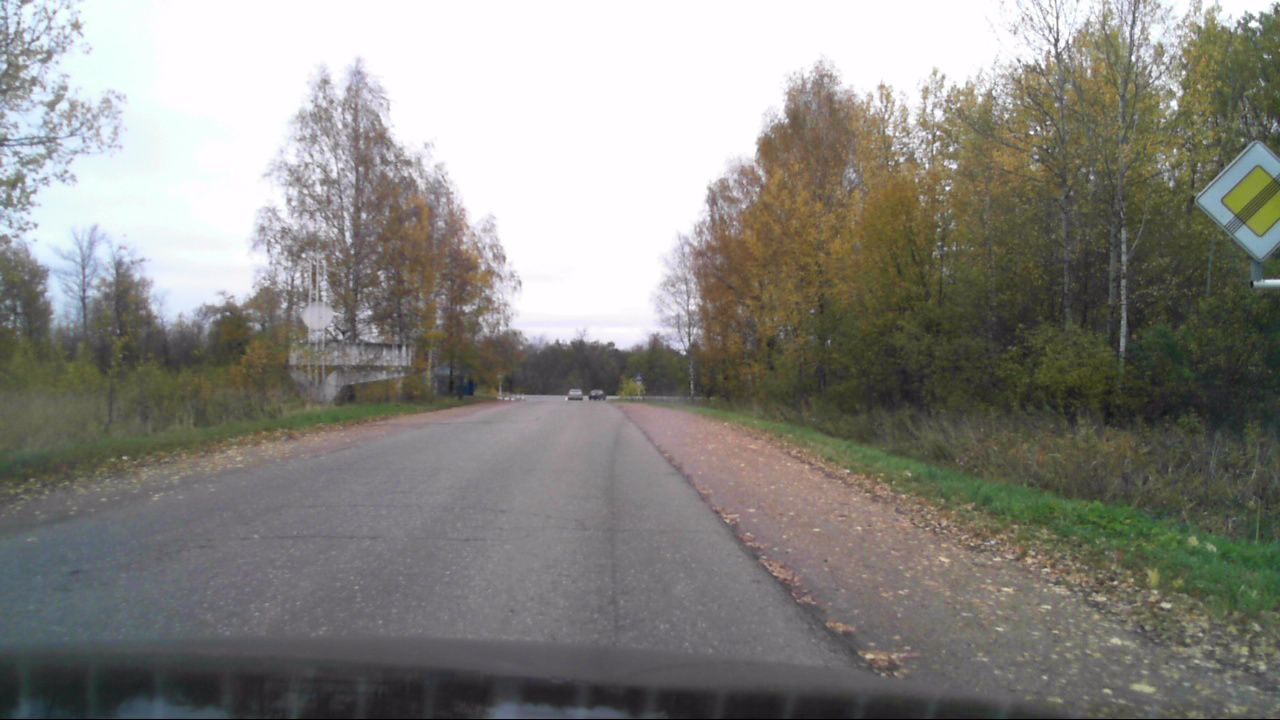main road: (1190, 140, 1279, 263)
